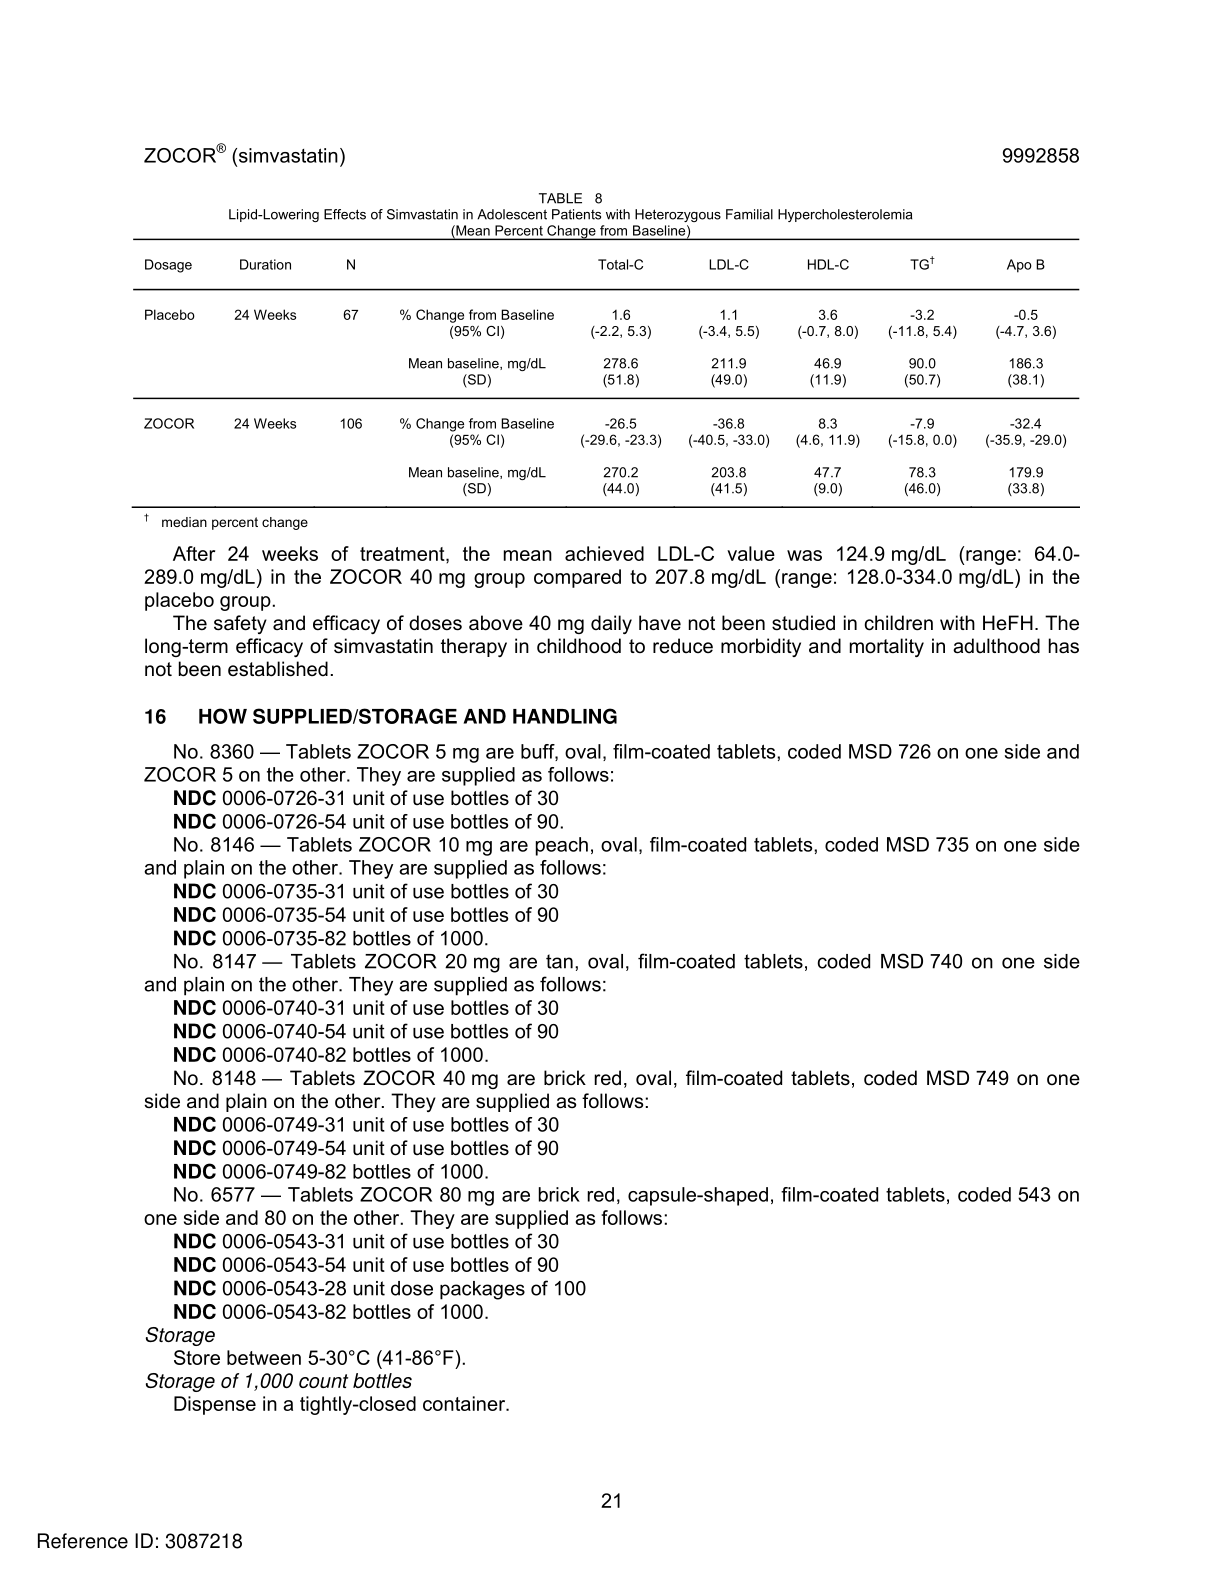partial_lined: (132, 238, 1084, 509)
